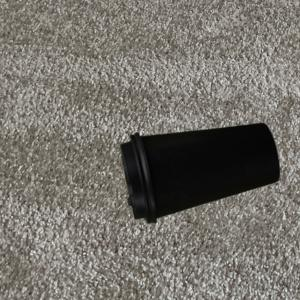cup: (120, 121, 281, 223)
